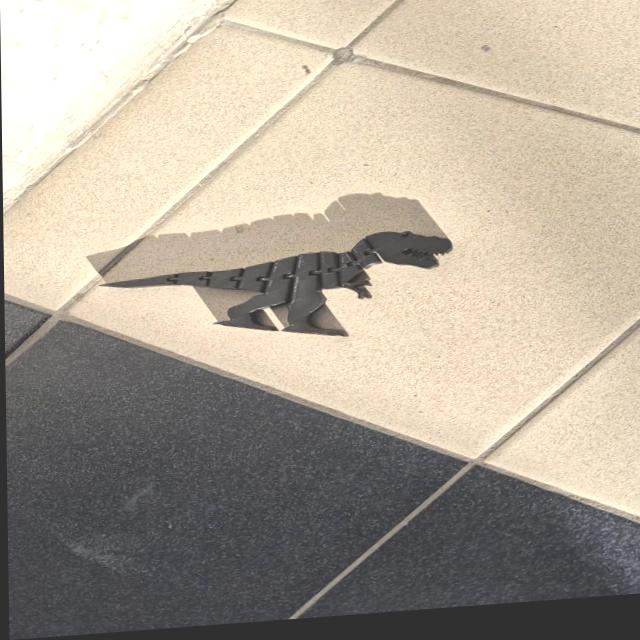dino: (97, 226, 456, 357)
